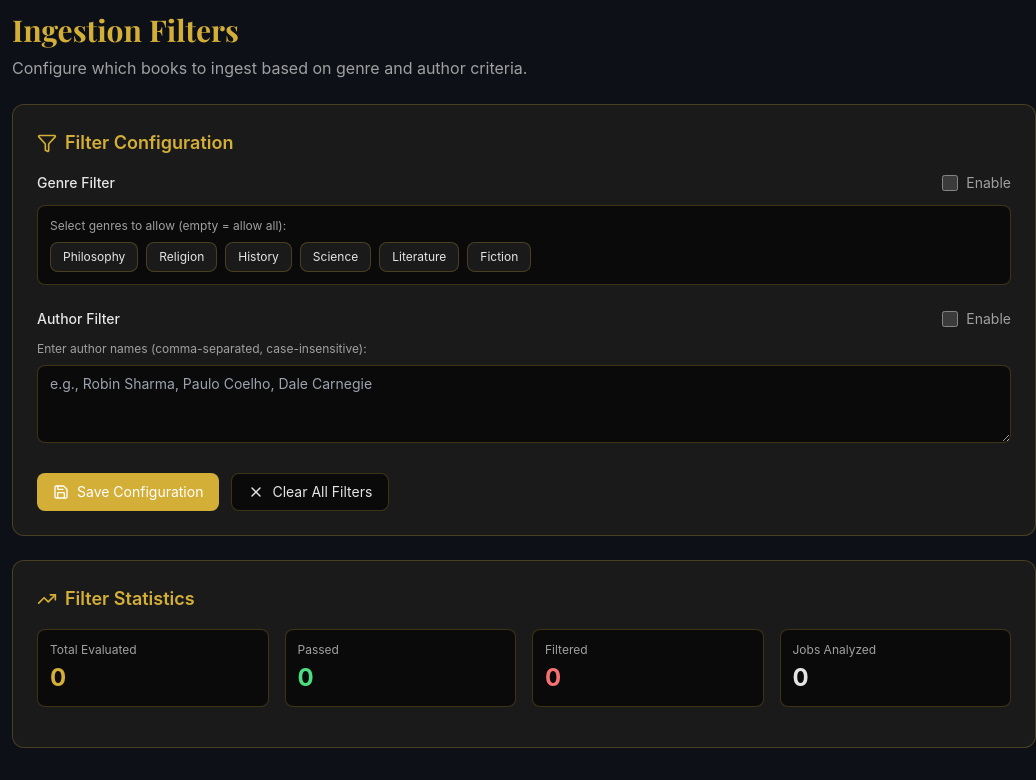
Test: IngestionFiltersPanel - Unit Tests › Validation Errors › should display validation errors when save fails
The width and height of the screenshot is (1036, 780).
Click the button "Save Configuration" at (128, 492), box [37,473,219,511]
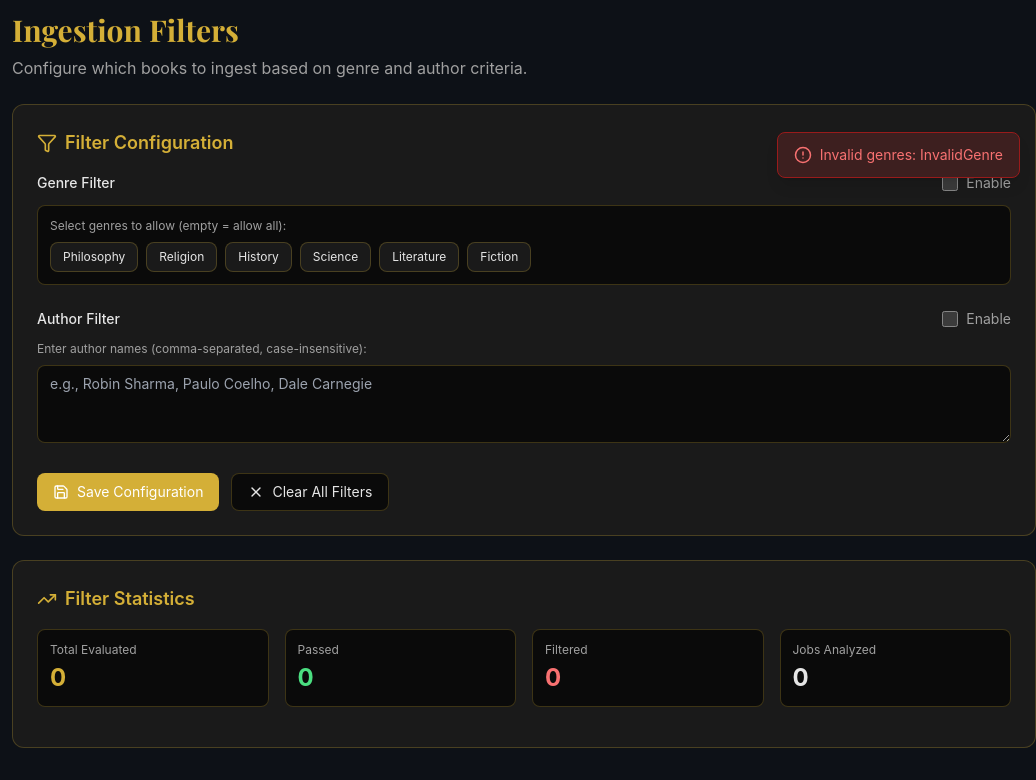
Check: the text "Invalid genres: InvalidGenre" is shown, box [777,132,1020,178]
